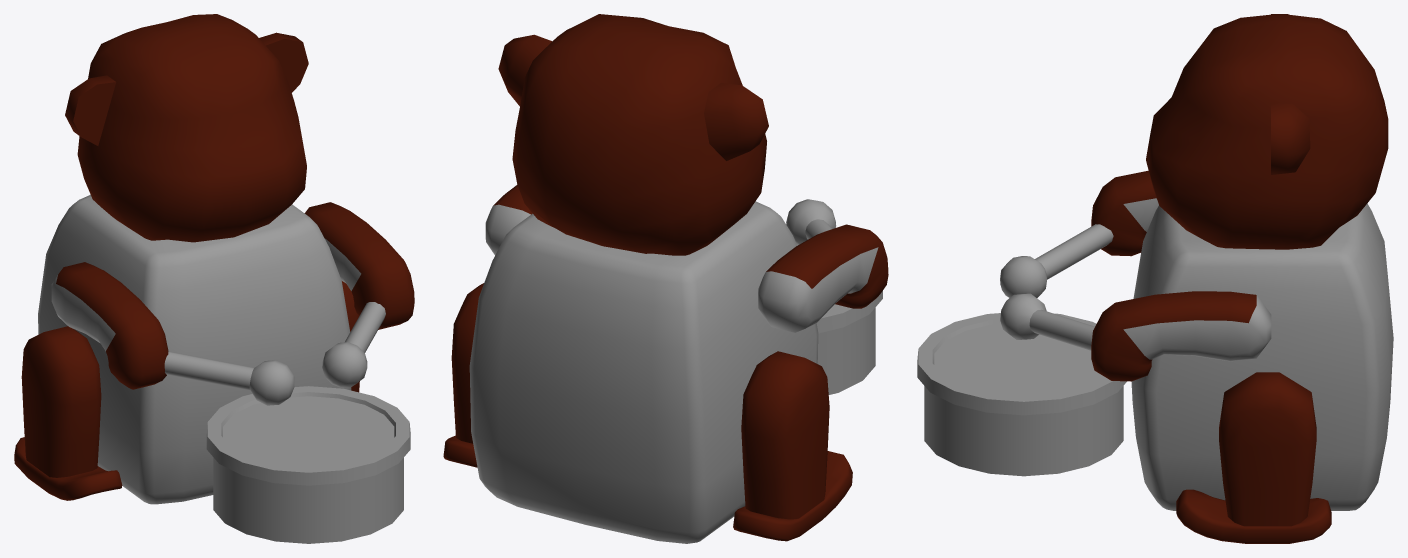
File: Monkey_Drum.FBX
3 views of the same model, side by side, from view 1: azimuth 30°, elevation 25°; view 2: azimuth 150°, elevation 25°; view 3: azimuth 270°, elevation 25° (orthographic). The views are drawn at different scales.
Visible parts, largest first — view 1: Monkey_Body, Monkey_Head, Drum, Monkey_RightLeg, Monkey_RightArm, Monkey_LeftArm; view 2: Monkey_Body, Monkey_Head, Monkey_RightLeg, Monkey_RightArm, Drum, Monkey_LeftLeg, Monkey_LeftArm; view 3: Monkey_Body, Monkey_Head, Drum, Monkey_LeftLeg, Monkey_LeftArm, Monkey_RightArm.
Part boxes in pixels (x1,y1,x2,y2): Monkey_Body: (38, 195, 351, 504); Monkey_Head: (65, 14, 308, 242); Drum: (206, 386, 410, 543); Monkey_RightLeg: (14, 326, 122, 500); Monkey_RightArm: (51, 262, 294, 405); Monkey_LeftArm: (304, 202, 414, 387); Monkey_Body: (469, 201, 818, 543); Monkey_Head: (498, 14, 768, 255); Monkey_RightLeg: (733, 351, 852, 541); Monkey_RightArm: (758, 199, 888, 332); Drum: (816, 291, 882, 394); Monkey_LeftLeg: (443, 283, 483, 467); Monkey_LeftArm: (485, 184, 532, 255); Monkey_Body: (1131, 203, 1393, 510); Monkey_Head: (1146, 14, 1388, 249); Drum: (917, 313, 1126, 476); Monkey_LeftLeg: (1176, 372, 1331, 543); Monkey_LeftArm: (1000, 291, 1271, 381); Monkey_RightArm: (1000, 170, 1158, 297).
Size of the model in its own units: 183 by 233 by 232.
